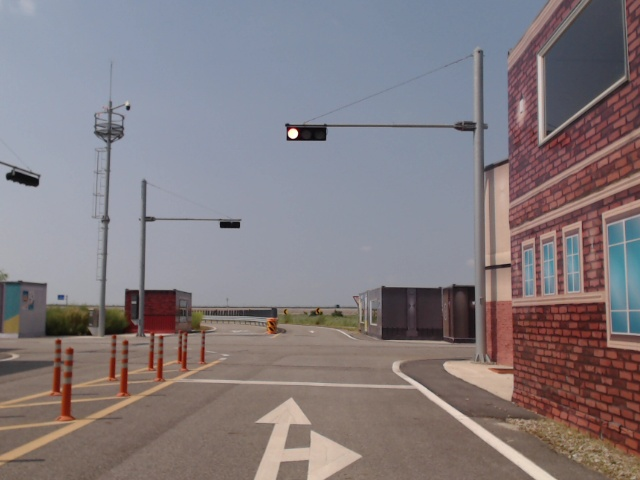red_3: (288, 125, 327, 140)
